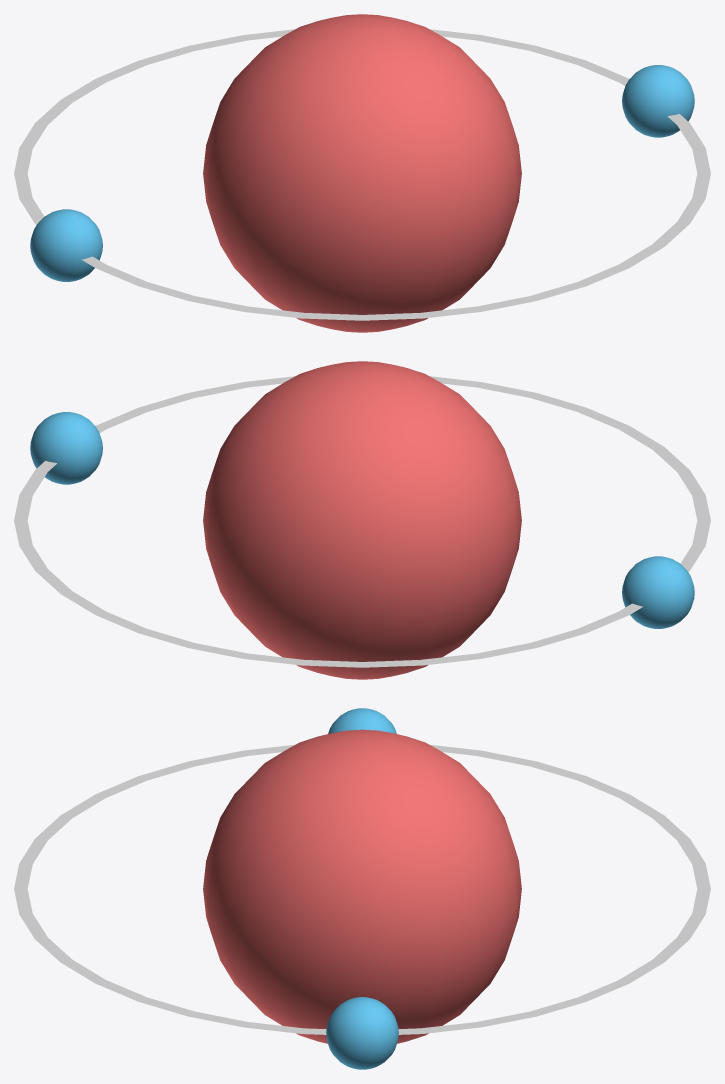
Rendered from helium_atom.glb.
The picture shows the model from 3 angles, top to bottom: view 1: azimuth 30°, elevation 25°; view 2: azimuth 150°, elevation 25°; view 3: azimuth 270°, elevation 25°; orthographic projection.
Visible parts, largest first — view 1: nucleus_node, shell_ring_0, electron_node_0_1, electron_node_0_0; view 2: nucleus_node, shell_ring_0, electron_node_0_1, electron_node_0_0; view 3: nucleus_node, shell_ring_0, electron_node_0_0, electron_node_0_1.
Boxes of the visible parts, bbox=[...] form: nucleus_node: bbox=[203, 14, 521, 332]; shell_ring_0: bbox=[14, 29, 710, 320]; electron_node_0_1: bbox=[30, 209, 102, 281]; electron_node_0_0: bbox=[622, 65, 694, 137]; nucleus_node: bbox=[203, 361, 521, 679]; shell_ring_0: bbox=[14, 376, 710, 667]; electron_node_0_1: bbox=[622, 556, 694, 628]; electron_node_0_0: bbox=[30, 412, 102, 484]; nucleus_node: bbox=[203, 729, 521, 1043]; shell_ring_0: bbox=[14, 744, 710, 1034]; electron_node_0_0: bbox=[326, 997, 398, 1069]; electron_node_0_1: bbox=[328, 708, 396, 733].
Bounding box in the file's own units: 1.66 × 0.7 × 1.53.
